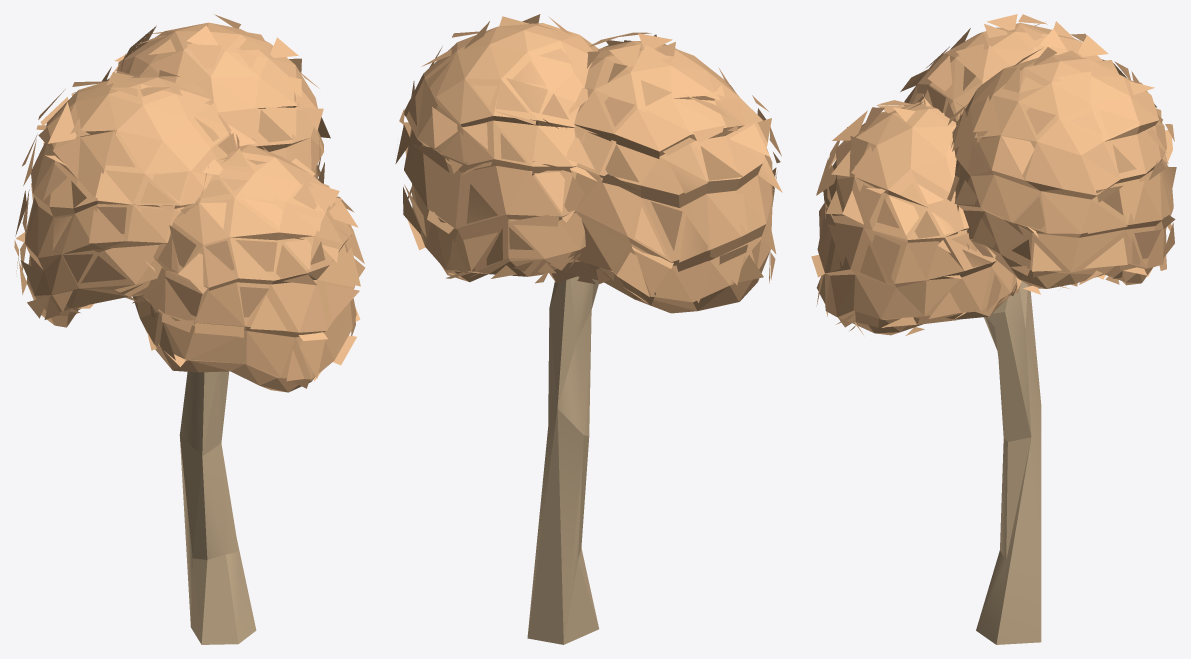
The model's file is DriedbigtoothB.fbx.
3 views of the same model, side by side, from view 1: azimuth 30°, elevation 25°; view 2: azimuth 150°, elevation 25°; view 3: azimuth 270°, elevation 25° (orthographic). The views are drawn at different scales.
Parts seen in each view (by area): view 1: Icosphere.007, trunk.005; view 2: Icosphere.007, trunk.005; view 3: Icosphere.007, trunk.005.
Part boxes in pixels (x1,y1,x2,y2): Icosphere.007: (14, 14, 365, 392); trunk.005: (179, 371, 256, 644); Icosphere.007: (395, 14, 782, 313); trunk.005: (527, 276, 598, 644); Icosphere.007: (811, 14, 1176, 335); trunk.005: (976, 281, 1041, 644).
Bounding box in the file's own units: 445 × 807 × 457.
